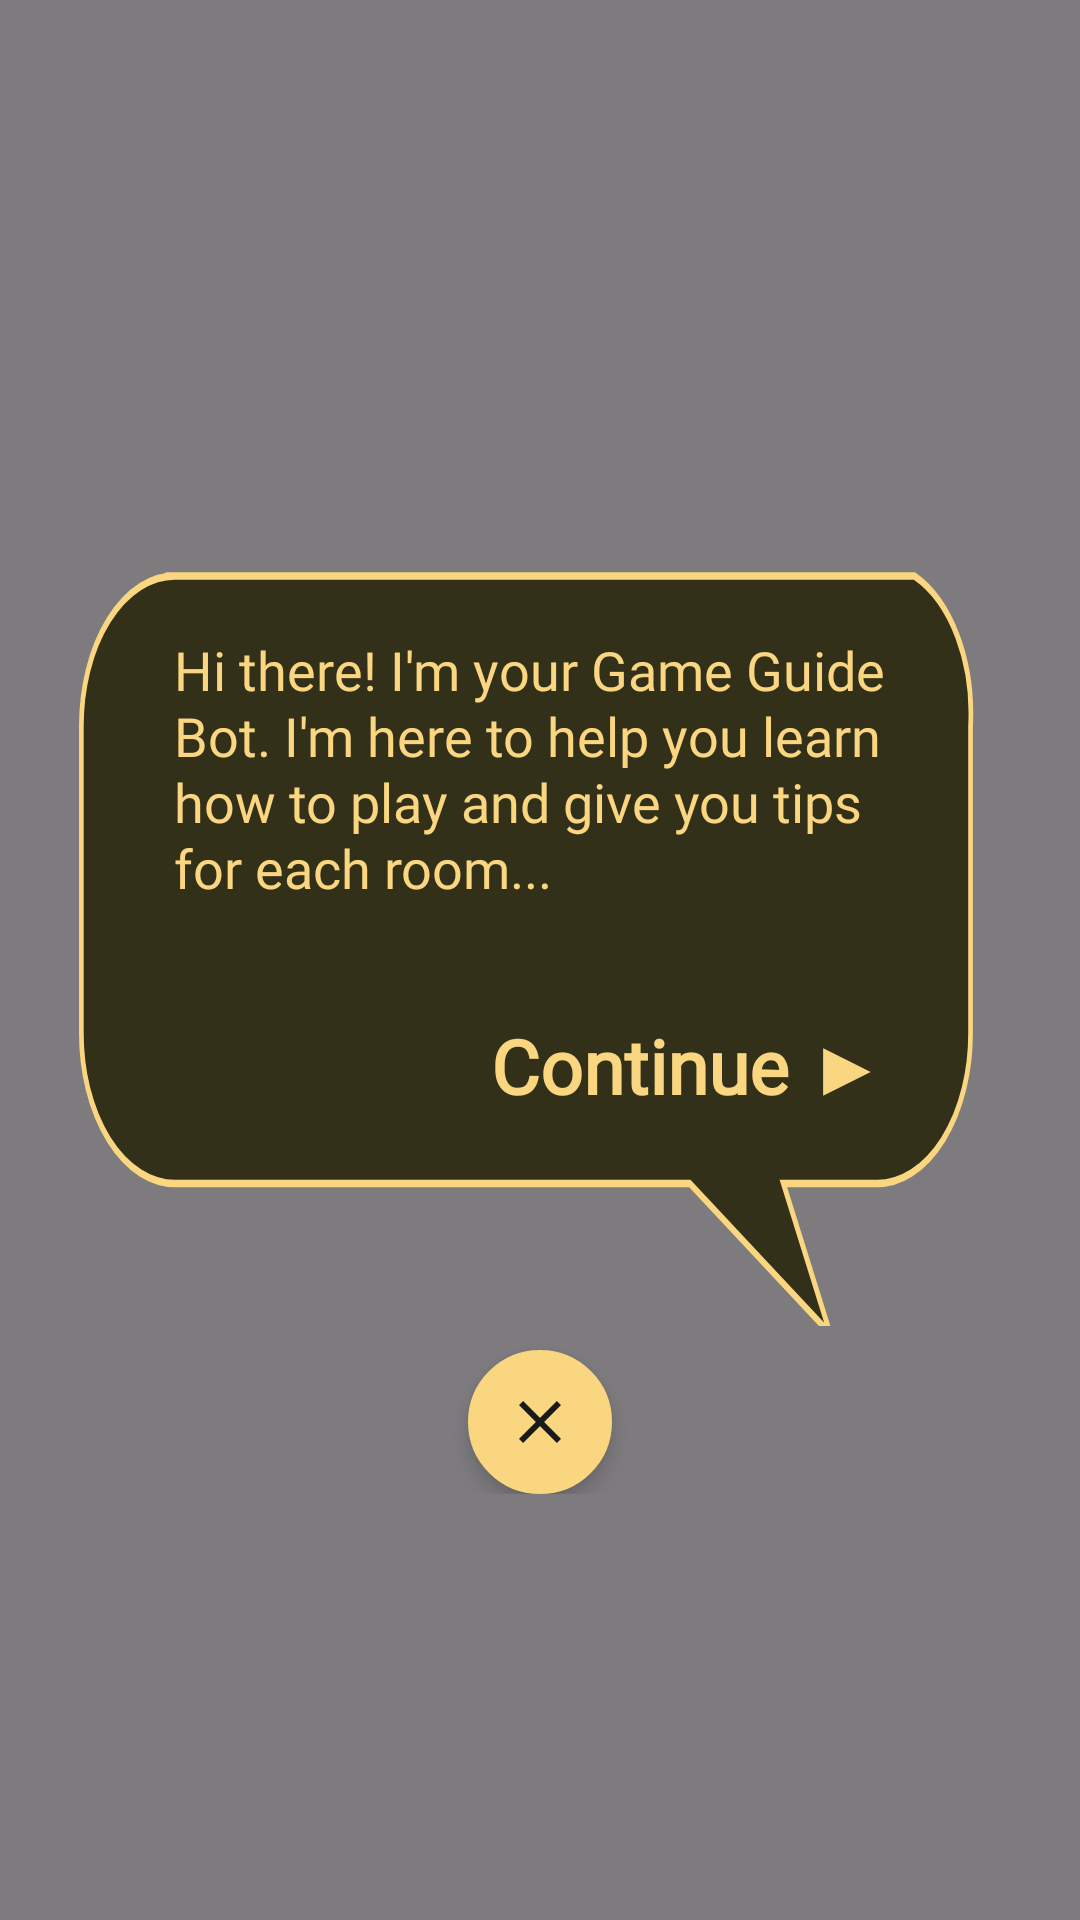

Point at icon controls on the screen. Image size 1080*1920, points as (x=x, y=y).
Close: (x=540, y=1422)
